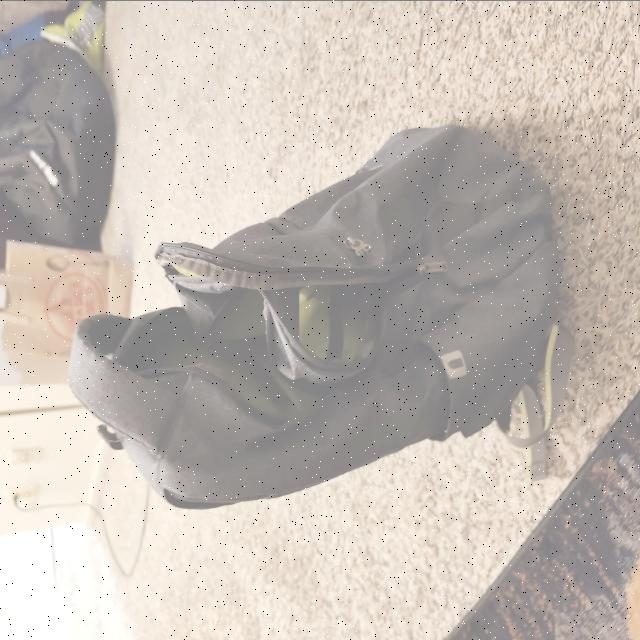bag: (198, 250, 510, 462)
